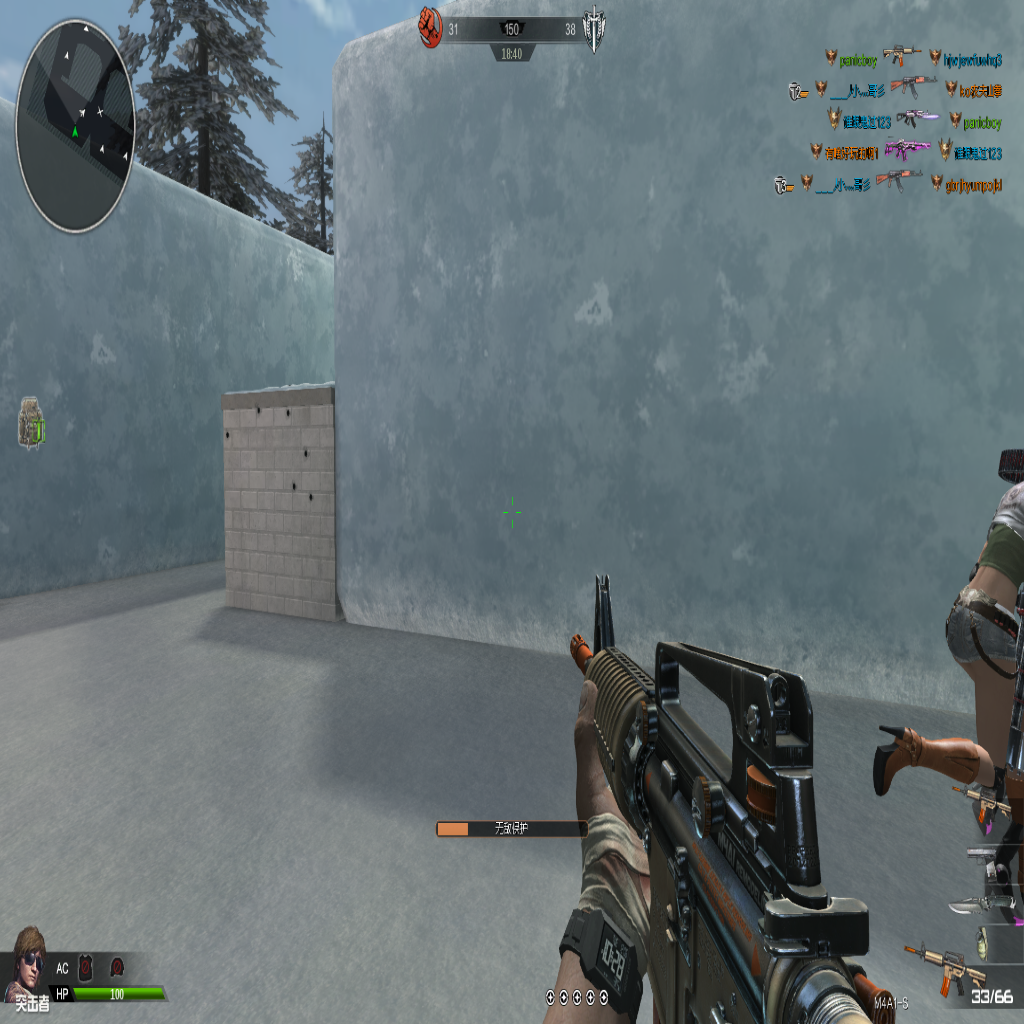tt: (869, 418, 1024, 884)
